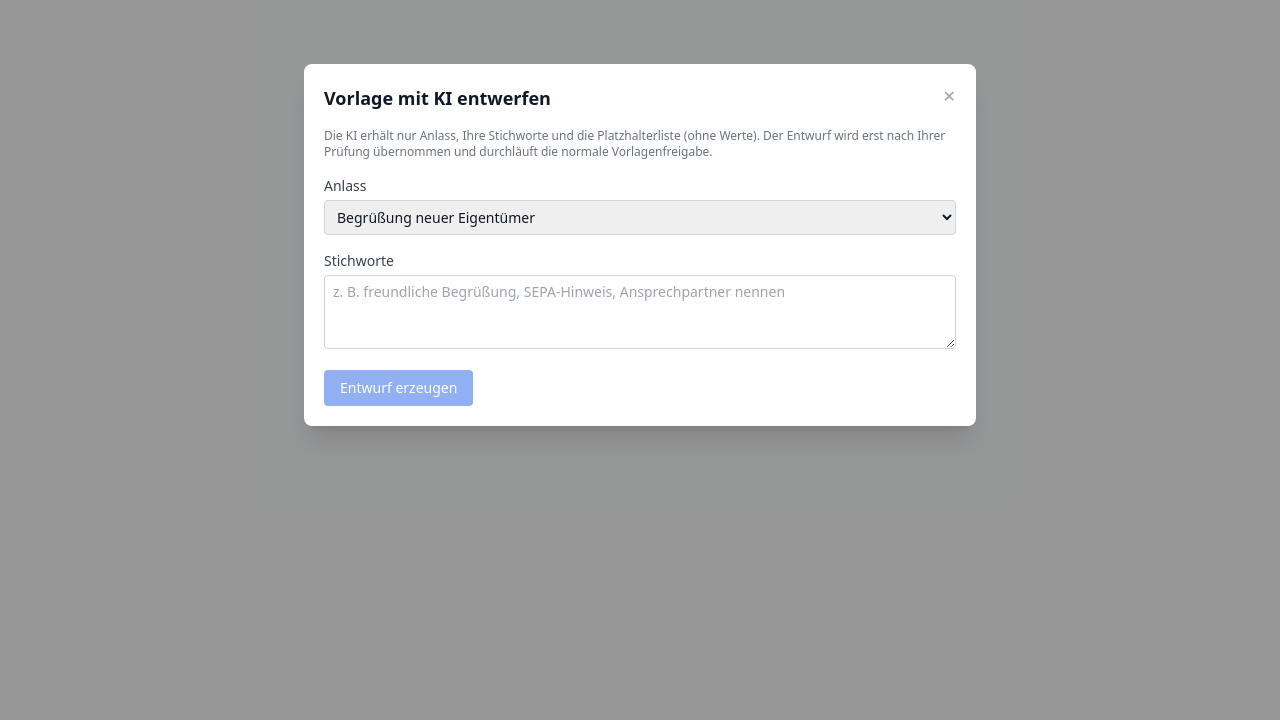
KiAssistentDialog — Mit KI entwerfen › zeigt Backend-Fehler und Timeout verständlich an
The image size is (1280, 720).
In the text box labelled "Stichworte": (640, 312) x1=324 y1=275 x2=956 y2=349, type "x"
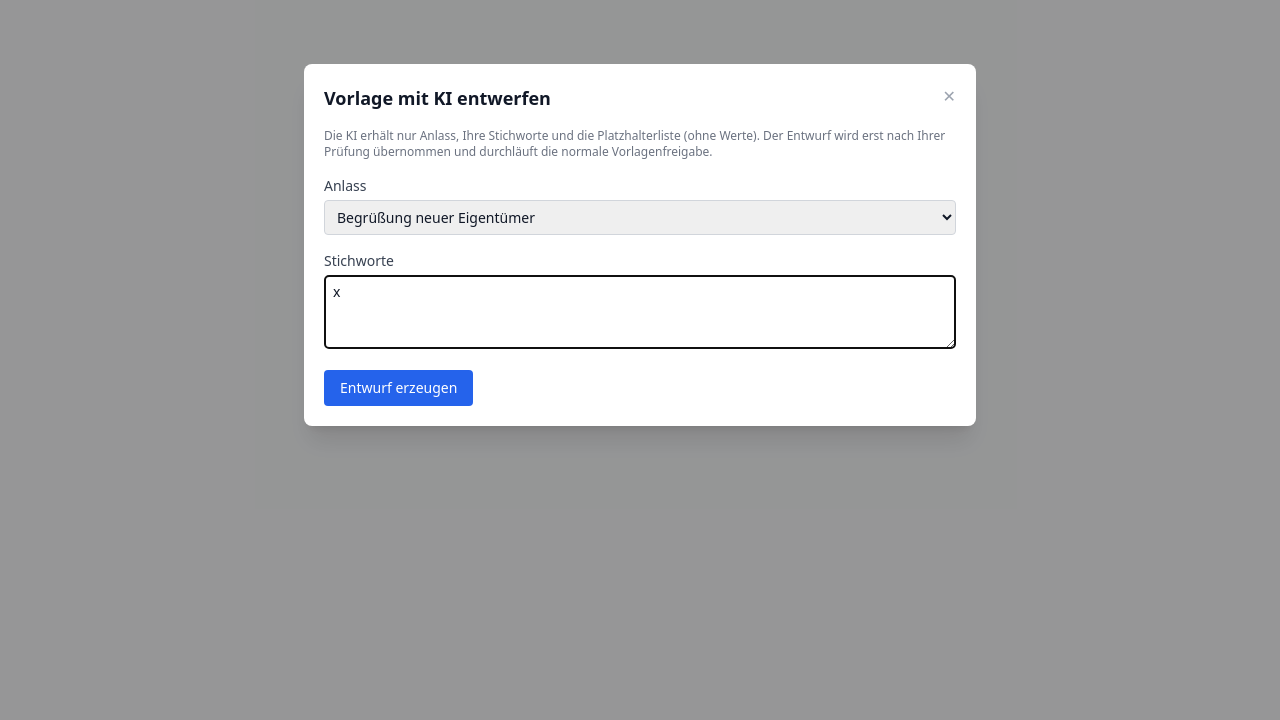
Click the button "Entwurf erzeugen": (399, 388) x1=324 y1=370 x2=473 y2=406
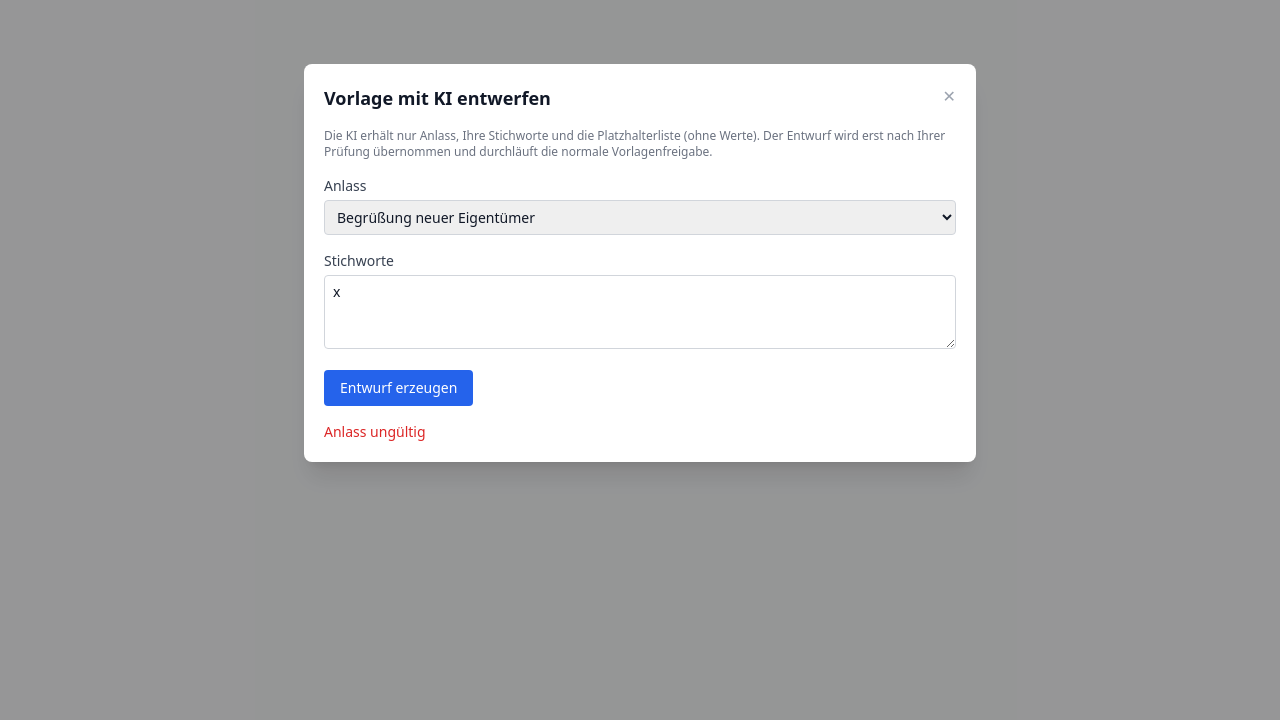
Result: the message reads "Anlass ungültig" at x1=324 y1=422 x2=426 y2=441
Click the button "Entwurf erzeugen": (399, 388) x1=324 y1=370 x2=473 y2=406
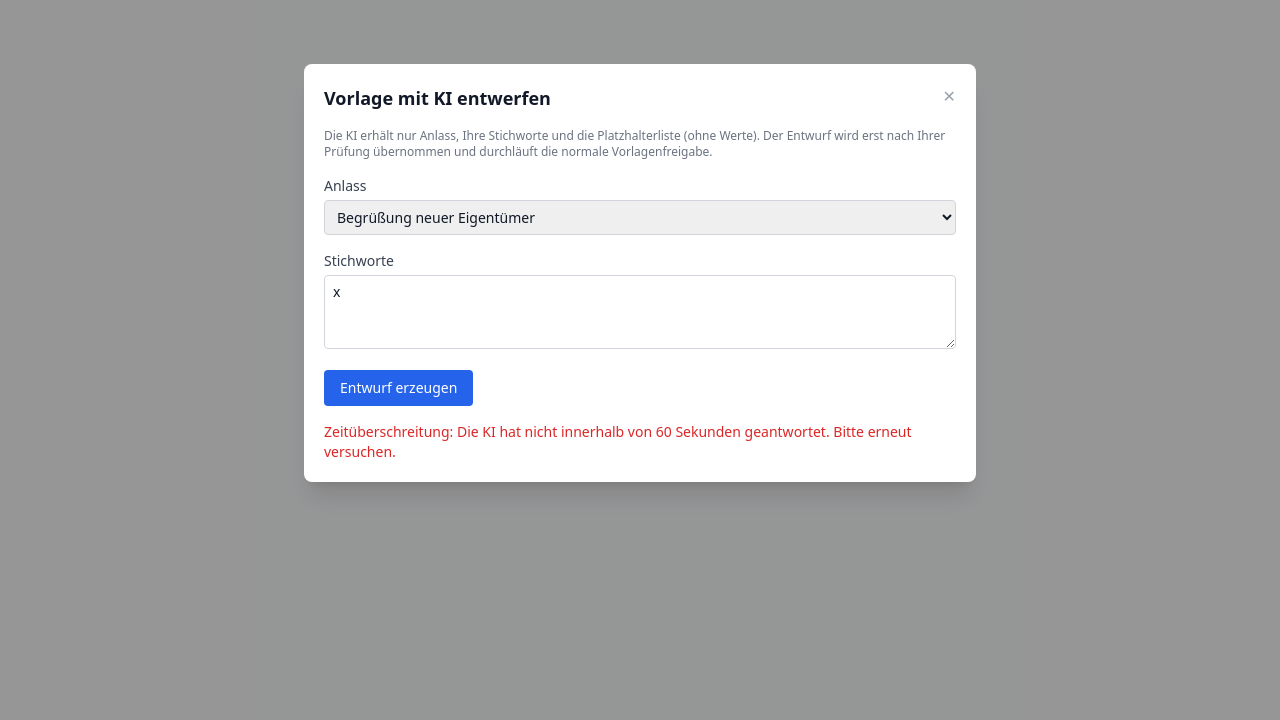
Result: the message shows "Zeitüberschreitung" at x1=324 y1=422 x2=912 y2=461
